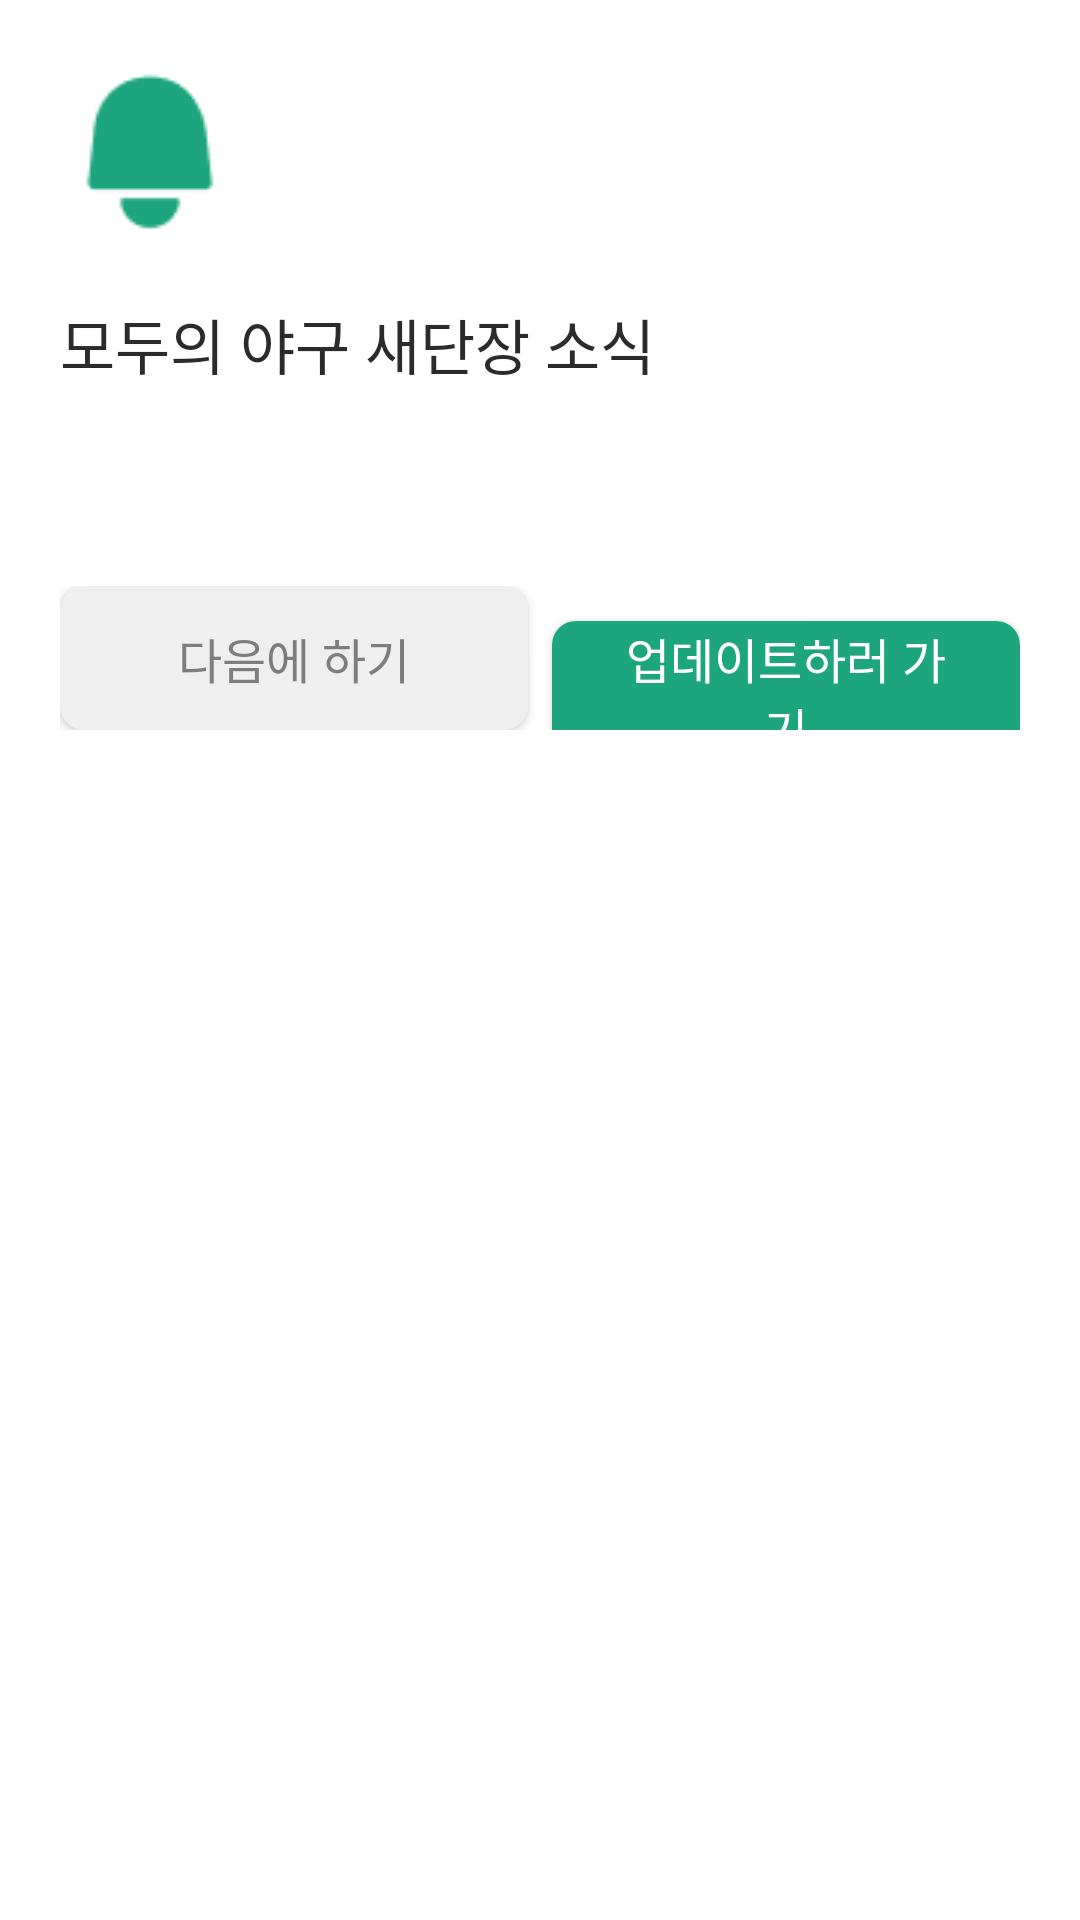

Screen size 1080 x 1920. Icon name, then its center in pixels as [x,y]:
alarm: [150,151]
